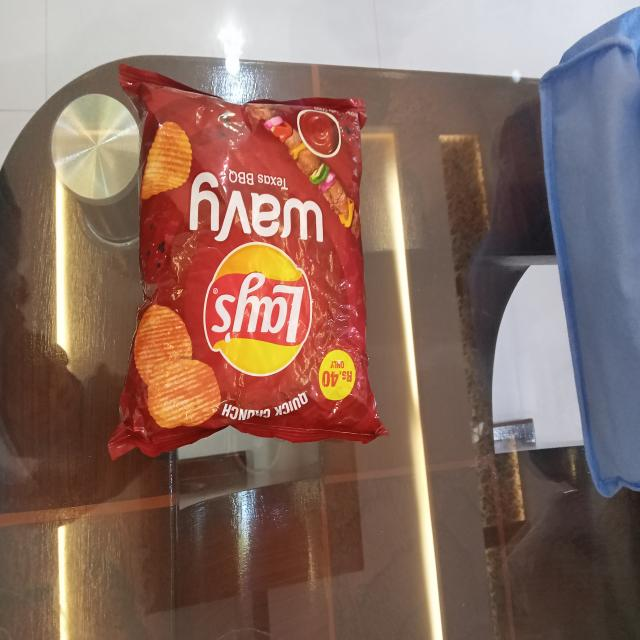Plastic: (103, 59, 392, 478)
